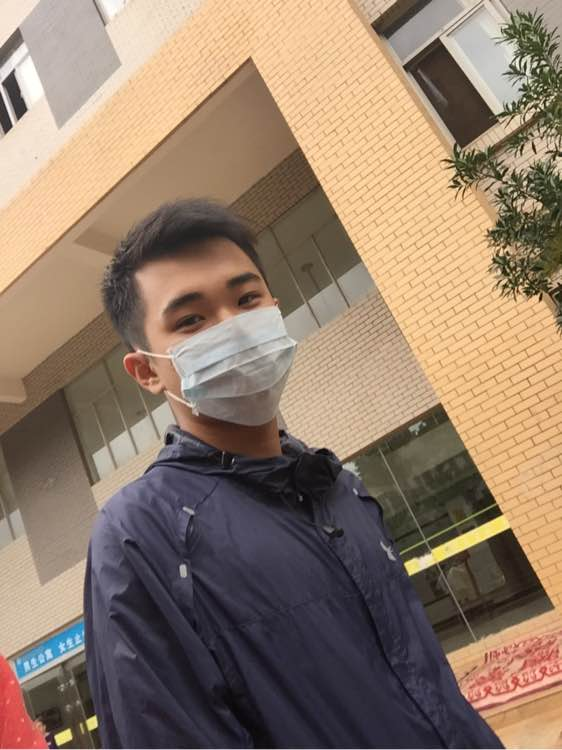face_mask: (153, 250, 298, 445)
